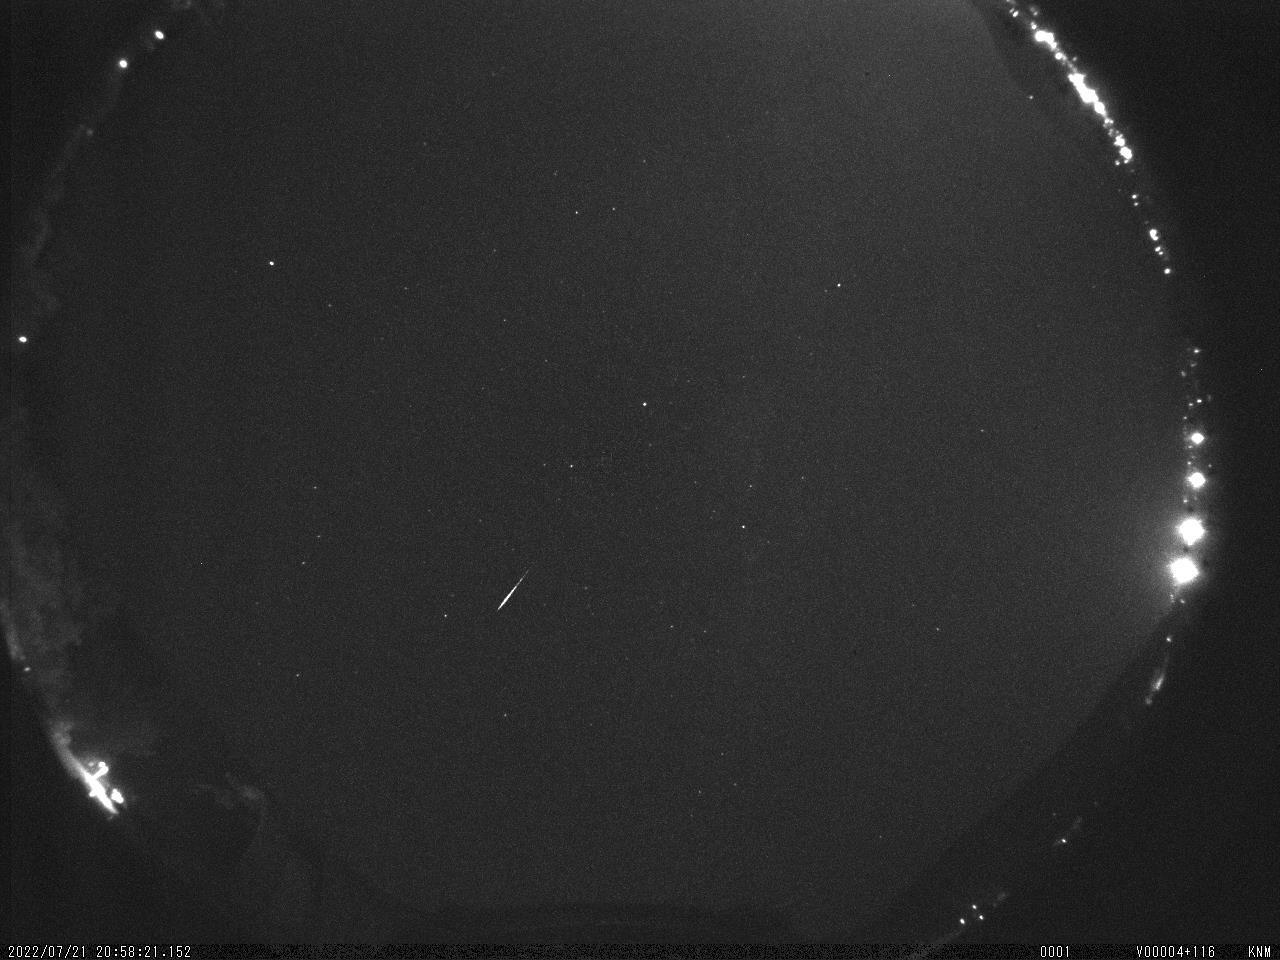Meteor: (493, 566, 532, 613)
